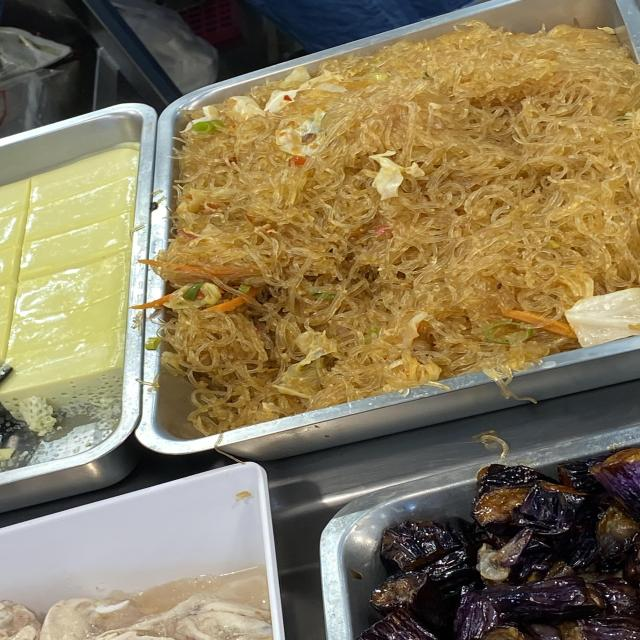Ants climbing the tree: (233, 112, 613, 334)
